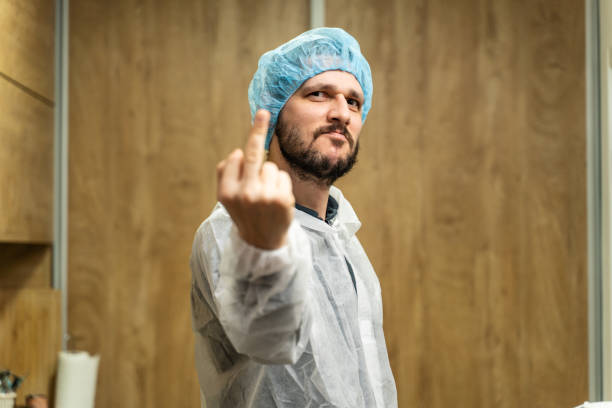insulting_gesture: (216, 109, 292, 238)
